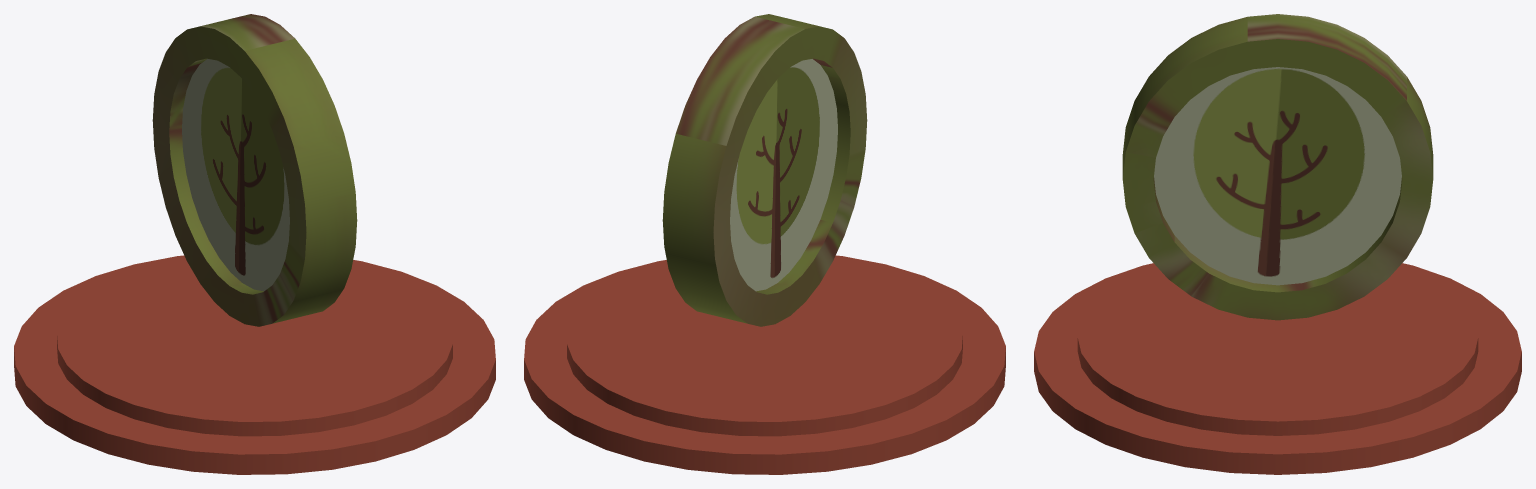
Rendered from CheckpointFlora.fbx.
3 renders of one model, left to right at view 1: azimuth 30°, elevation 25°; view 2: azimuth 150°, elevation 25°; view 3: azimuth 270°, elevation 25°, orthographic.
Visible parts, largest first — view 1: Cilindro, Cilindro.001; view 2: Cilindro, Cilindro.001; view 3: Cilindro, Cilindro.001.
Part boxes in pixels (x1=…): Cilindro: x1=14, y1=255, x2=495, y2=474; Cilindro.001: x1=152, y1=14, x2=357, y2=326; Cilindro: x1=524, y1=255, x2=1005, y2=474; Cilindro.001: x1=662, y1=14, x2=867, y2=326; Cilindro: x1=1034, y1=263, x2=1521, y2=474; Cilindro.001: x1=1122, y1=14, x2=1433, y2=320.
Size of the model in its own units: 314 by 245 by 314.
Materials: 2 (1 with a texture image).
